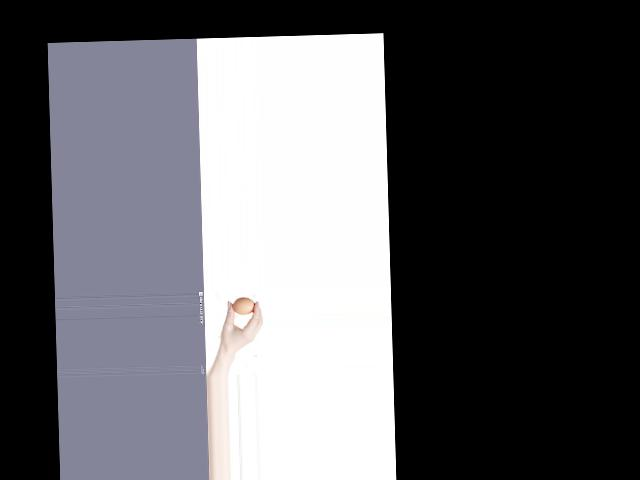egg: (232, 297, 254, 316)
